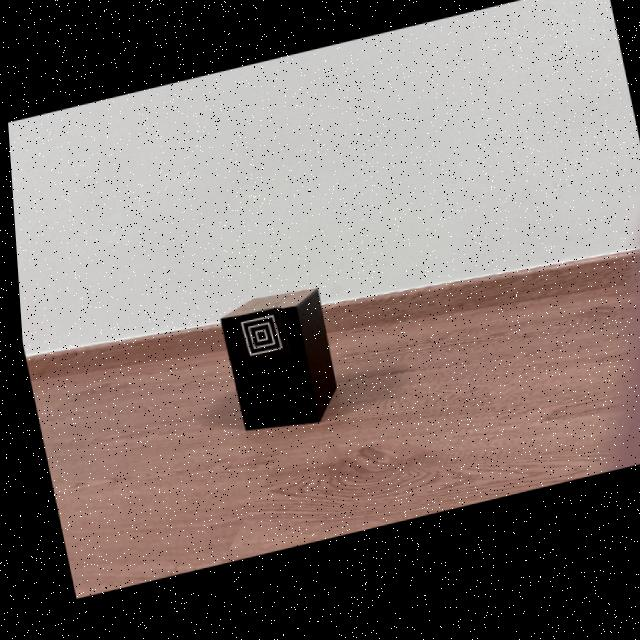BULLSEYE: (229, 313, 286, 369)
